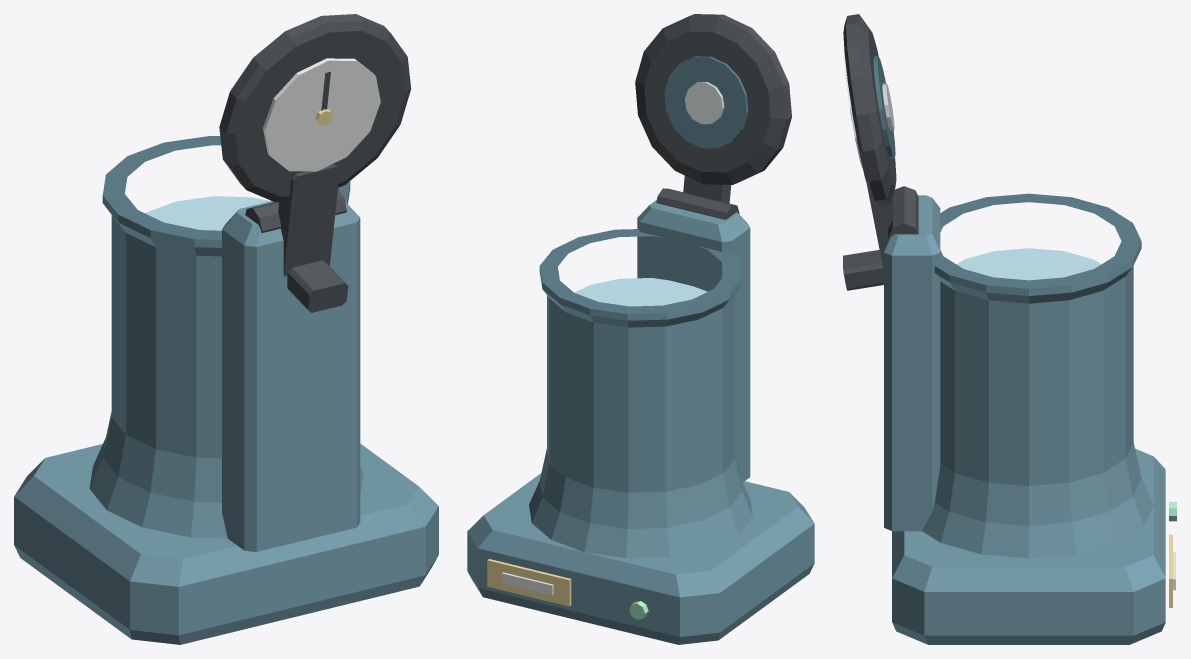
The model's file is water-bath.glb.
3 views of the same model, side by side, from view 1: azimuth 30°, elevation 25°; view 2: azimuth 150°, elevation 25°; view 3: azimuth 270°, elevation 25° (orthographic). The views are drawn at different scales.
Visible parts, largest first — view 1: foot, spine, body, lid_disc, lid_dial, lid_arm, rim, water, lid_tab, hinge; view 2: body, foot, lid_disc, spine, lid_ring, rim, water, label, hinge, lid_boss, lid_arm, label_txt; view 3: body, foot, spine, lid_disc, rim, water, lid_tab, hinge, lid_ring, lid_arm.
Boxes of the visible parts, bbox=[...] form: foot: bbox=[14, 443, 438, 644]; spine: bbox=[222, 201, 360, 551]; body: bbox=[89, 182, 363, 538]; lid_disc: bbox=[219, 14, 411, 201]; lid_dial: bbox=[263, 58, 380, 171]; lid_arm: bbox=[278, 164, 339, 276]; rim: bbox=[102, 136, 350, 239]; water: bbox=[145, 196, 270, 230]; lid_tab: bbox=[287, 260, 348, 312]; hinge: bbox=[245, 188, 346, 232]; body: bbox=[529, 266, 752, 558]; foot: bbox=[467, 473, 814, 644]; lid_disc: bbox=[635, 14, 791, 184]; spine: bbox=[637, 200, 750, 482]; lid_ring: bbox=[664, 56, 748, 148]; rim: bbox=[540, 229, 741, 313]; water: bbox=[574, 278, 706, 306]; label: bbox=[487, 559, 571, 606]; hinge: bbox=[656, 188, 739, 219]; lid_boss: bbox=[685, 82, 724, 124]; lid_arm: bbox=[683, 176, 731, 203]; label_txt: bbox=[501, 572, 553, 595]; body: bbox=[922, 242, 1153, 558]; foot: bbox=[892, 448, 1165, 644]; spine: bbox=[884, 195, 940, 531]; lid_disc: bbox=[843, 14, 896, 206]; rim: bbox=[935, 193, 1141, 288]; water: bbox=[956, 248, 1100, 280]; lid_tab: bbox=[843, 250, 883, 290]; hinge: bbox=[888, 186, 918, 239]; lid_ring: bbox=[873, 56, 895, 159]; lid_arm: bbox=[867, 185, 893, 271].
Size of the model in its own units: 0.16 by 0.3046 by 0.1659.
